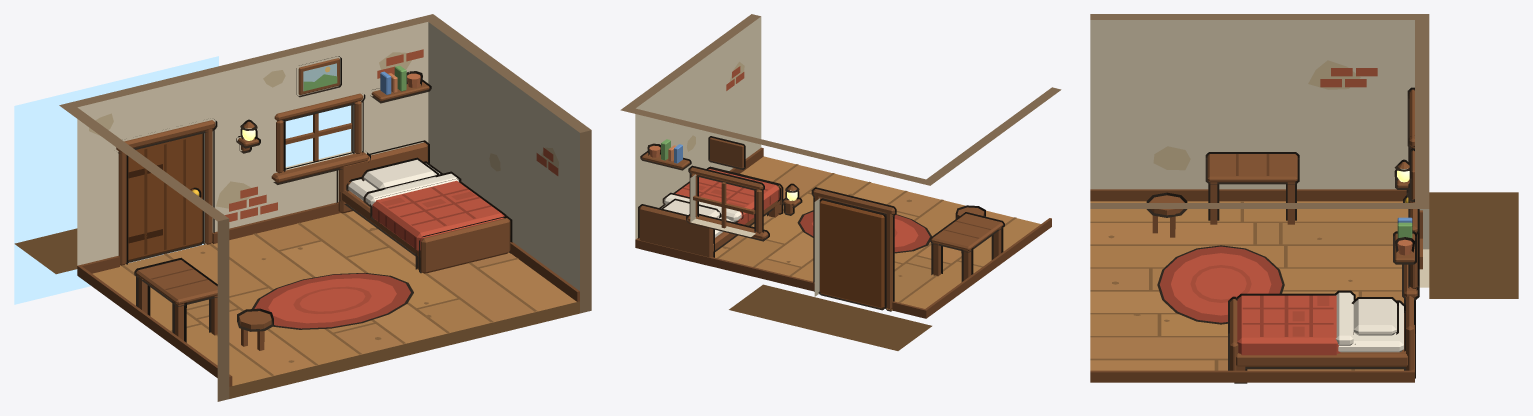
File: room.glb
3 renders of one model, left to right at view 1: azimuth 30°, elevation 25°; view 2: azimuth 150°, elevation 25°; view 3: azimuth 270°, elevation 25°, orthographic. The views are drawn at different scales.
Visible parts, largest first — view 1: room; view 2: room; view 3: room.
Boxes of the visible parts, left/top/right/bottom form: room: left=14, top=14, right=591, bottom=401; room: left=620, top=14, right=1061, bottom=350; room: left=1090, top=14, right=1518, bottom=383.
Bounding box in the file's own units: 5.16 × 3 × 4.75.
